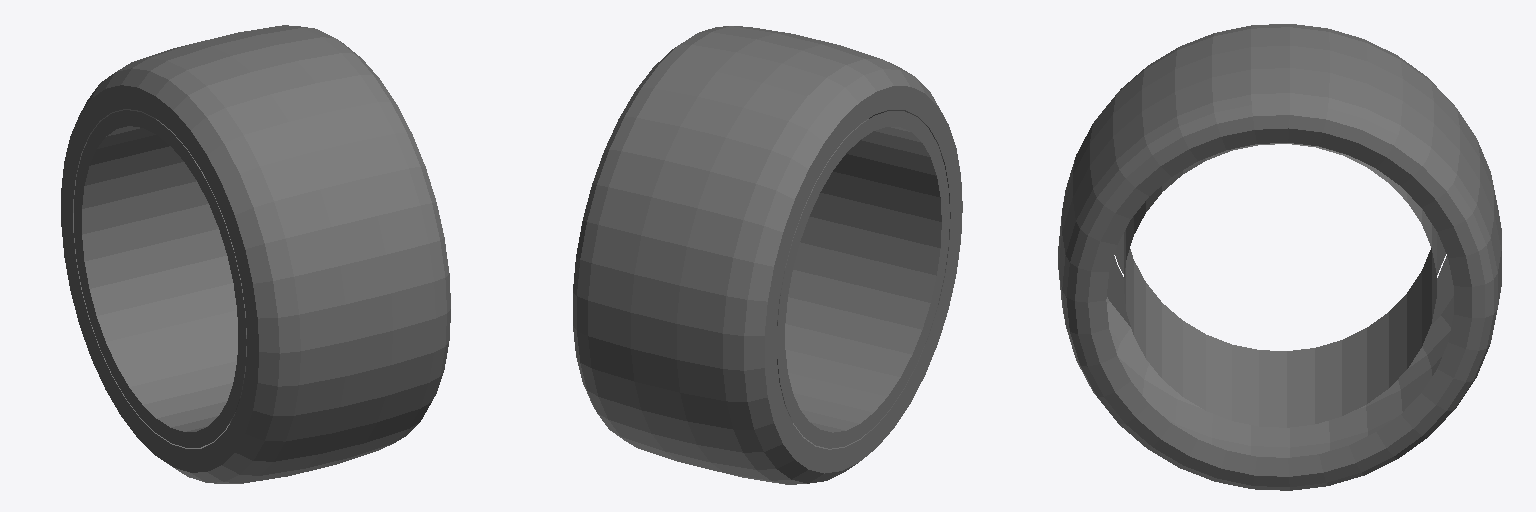
Rendered from Llanta3_Carro.obj.
3 views of the same model, side by side, from view 1: azimuth 30°, elevation 25°; view 2: azimuth 150°, elevation 25°; view 3: azimuth 270°, elevation 25° (orthographic).
Visible parts, largest first — view 1: Llanta3_Carro; view 2: Llanta3_Carro; view 3: Llanta3_Carro.
Boxes of the visible parts, x1=… form: Llanta3_Carro: x1=61, y1=25, x2=450, y2=483; Llanta3_Carro: x1=573, y1=26, x2=962, y2=484; Llanta3_Carro: x1=1058, y1=24, x2=1501, y2=490.
Bounding box in the file's own units: 11.16 × 22.38 × 22.36.